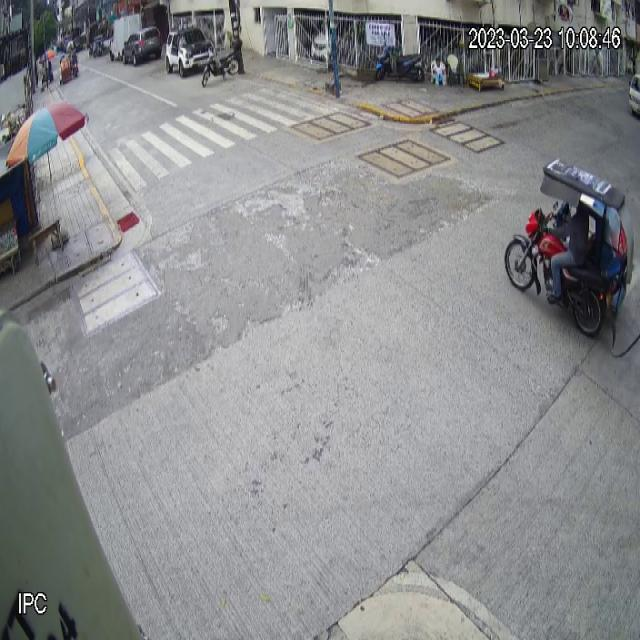Tricycle: (504, 154, 635, 337)
